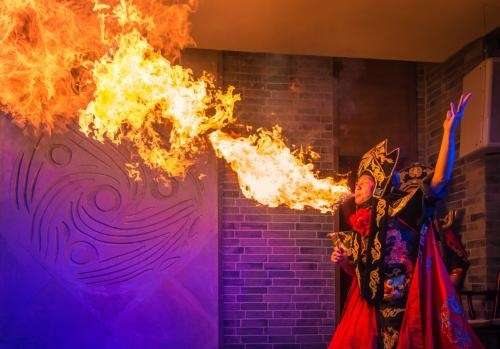fire: (0, 0, 258, 180)
